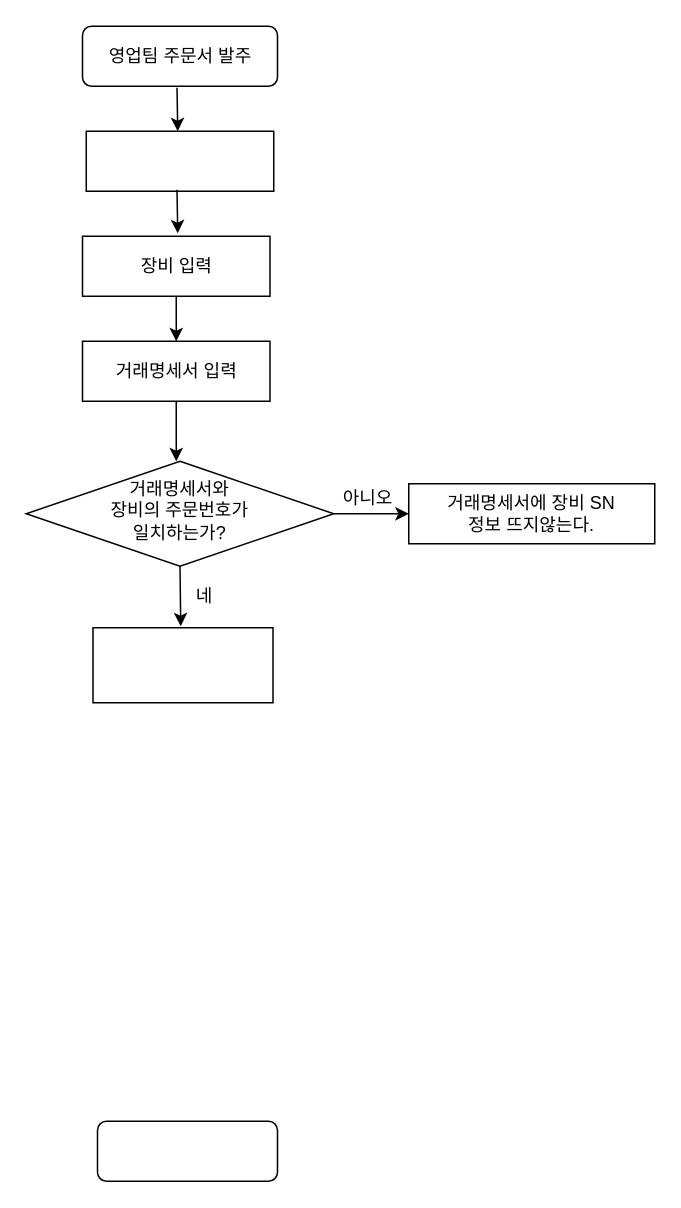
This 681x1208 diagram has some shape labels left out. Each missing label, with the centre of its shape:
거래명세서에 해당 장비의 SN 표시: pixel 182 664
주문번호 생성: pixel 179 160
